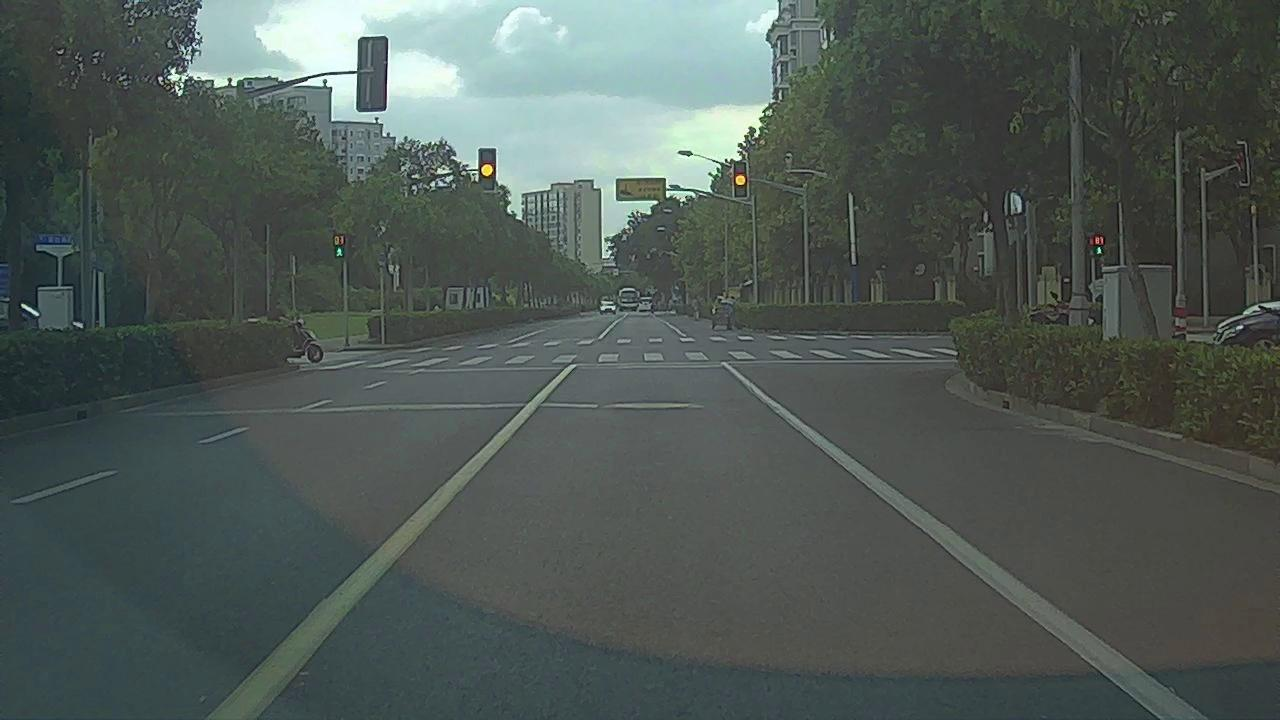traffic_light: (478, 147, 495, 192), (734, 161, 749, 197)
